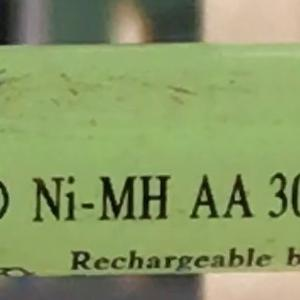NI-MH: (23, 165, 175, 232)
